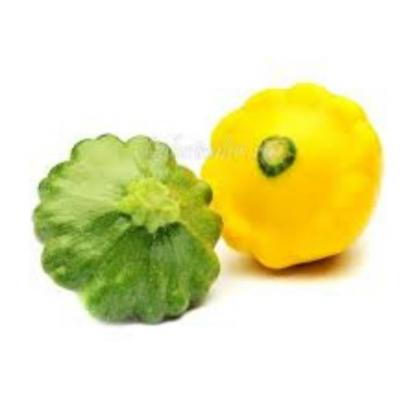squash-patisson: (26, 129, 227, 339), (193, 73, 391, 276)
